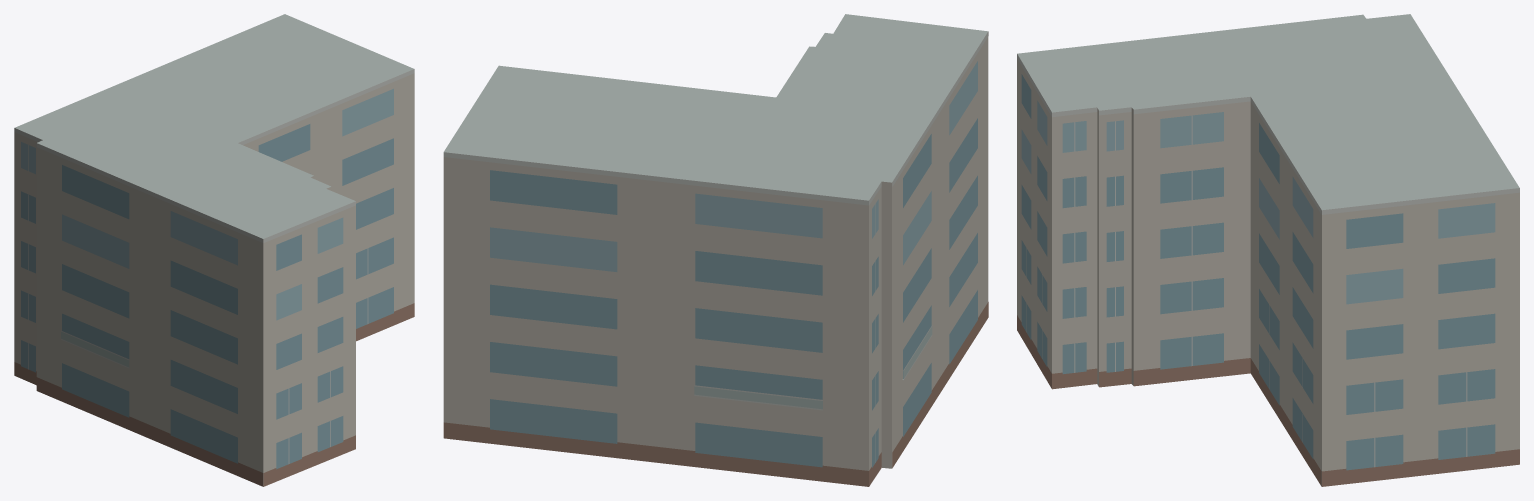
File: survey-upis-32602461.glb
3 renders of one model, left to right at view 1: azimuth 30°, elevation 25°; view 2: azimuth 150°, elevation 25°; view 3: azimuth 270°, elevation 25°, orthographic. The views are drawn at different scales.
Parts seen in each view (by area): view 1: survey-upis-32602461.tmp; view 2: survey-upis-32602461.tmp; view 3: survey-upis-32602461.tmp.
Part boxes in pixels (x1=…): survey-upis-32602461.tmp: x1=14, y1=14, x2=414, y2=486; survey-upis-32602461.tmp: x1=443, y1=14, x2=988, y2=486; survey-upis-32602461.tmp: x1=1017, y1=14, x2=1519, y2=486.
Size of the model in its own units: 22 by 14.45 by 23.81.
